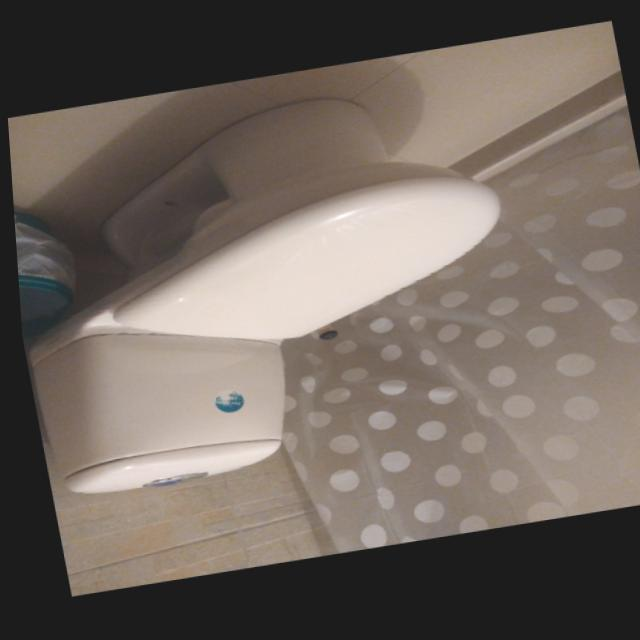toilet: (5, 74, 540, 505)
